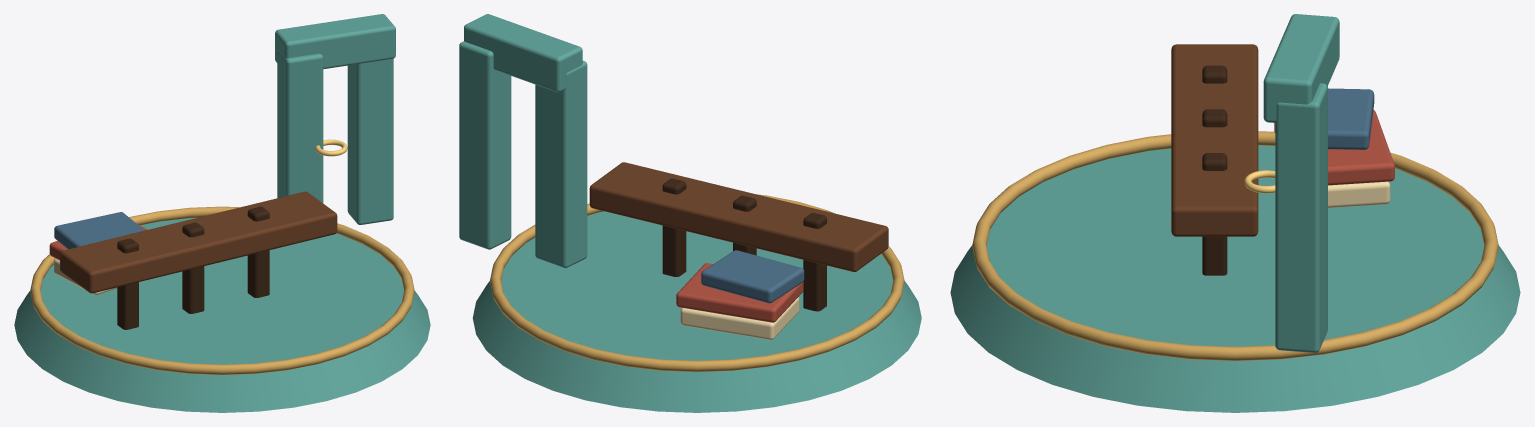
File: bridge-door-boundary.glb
The picture shows the model from 3 angles, left to right: view 1: azimuth 30°, elevation 25°; view 2: azimuth 150°, elevation 25°; view 3: azimuth 270°, elevation 25°; orthographic projection. The views are drawn at different scales.
Parts seen in each view (by area): view 1: asset-plinth, boundary-bridge, door-post-right, plinth-rim, door-post-left, door-top, bridge-support (×3), book-cover-small; view 2: asset-plinth, boundary-bridge, door-post-right, door-post-left, plinth-rim, door-top, book-cover-small, bridge-support (×3), book-cover, book-pages; view 3: asset-plinth, boundary-bridge, plinth-rim, door-post-right, door-top, book-cover, book-cover-small, bridge-support, book-pages.
Part boxes in pixels (<box>): asset-plinth: <box>14,218,430,412</box>; boundary-bridge: <box>60,191,337,293</box>; door-post-right: <box>347,58,393,224</box>; plinth-rim: <box>30,206,414,374</box>; door-post-left: <box>277,50,323,203</box>; door-top: <box>275,14,395,69</box>; bridge-support (×3): <box>117,206,269,329</box>; book-cover-small: <box>54,212,144,249</box>; asset-plinth: <box>472,211,921,412</box>; boundary-bridge: <box>589,162,888,271</box>; door-post-right: <box>459,41,511,249</box>; door-post-left: <box>535,60,587,268</box>; plinth-rim: <box>490,194,904,371</box>; door-top: <box>464,14,582,92</box>; book-cover-small: <box>701,250,804,303</box>; bridge-support (×3): <box>662,178,826,311</box>; book-cover: <box>676,263,803,322</box>; book-pages: <box>680,297,799,339</box>; asset-plinth: <box>950,145,1520,412</box>; boundary-bridge: <box>1171,44,1258,236</box>; plinth-rim: <box>972,131,1498,360</box>; door-post-right: <box>1275,83,1327,352</box>; door-top: <box>1263,14,1339,122</box>; book-cover: <box>1274,110,1394,185</box>; book-cover-small: <box>1328,88,1374,149</box>; bridge-support: <box>1202,153,1227,275</box>; book-pages: <box>1328,181,1390,207</box>.
Bounding box in the file's own units: 2.84 × 1.8 × 2.76.
